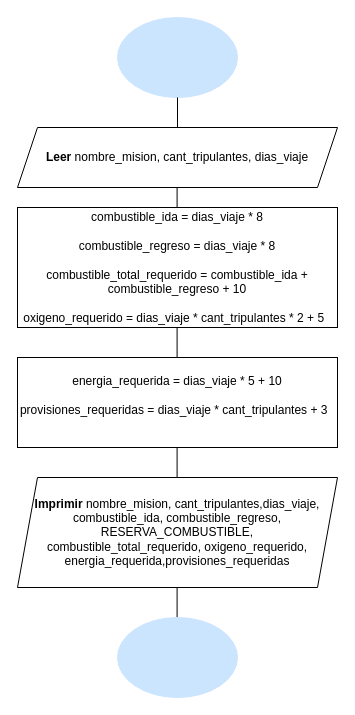
Some shapes in this 355 by 715 pixel diagram are drawn without their labels. Here are the shapes that lost their labels. From the top down, the box of each, then its label:
(116, 16, 238, 98): Inicio
(116, 616, 238, 698): Fin
